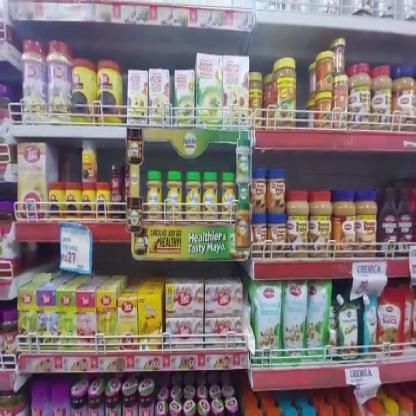Nutralite ACHARI MAYO 300g-275g-25g-: (220, 172, 236, 221), (203, 170, 218, 222)
Nutralite CHEESY GARLIC MAYO 300g-275g-25g-: (165, 170, 183, 222), (185, 170, 202, 224), (146, 168, 161, 221)
